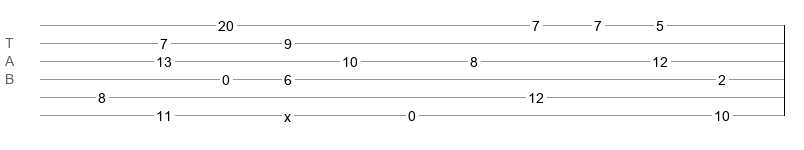0: (222, 72, 230, 82), (408, 108, 416, 118)
10: (342, 54, 358, 64), (714, 108, 730, 118)
11: (156, 108, 172, 118)
12: (528, 90, 544, 100), (652, 54, 668, 64)
13: (156, 54, 172, 64)
2: (718, 72, 726, 82)
20: (218, 18, 234, 28)
5: (656, 18, 664, 28)
6: (284, 72, 292, 82)
7: (160, 36, 168, 46), (532, 18, 540, 28), (594, 18, 602, 28)
8: (98, 90, 106, 100), (470, 54, 478, 64)
9: (284, 36, 292, 46)
x: (284, 109, 291, 117)
